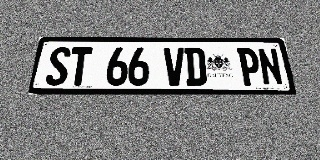6: (105, 47, 129, 86), (128, 47, 149, 86)
D: (184, 48, 207, 86)
N: (257, 48, 284, 86)
P: (237, 48, 262, 86)
S: (44, 47, 71, 86)
T: (67, 47, 92, 86)
V: (164, 48, 185, 86)
